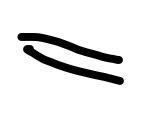eqv: (18, 32, 124, 85)
